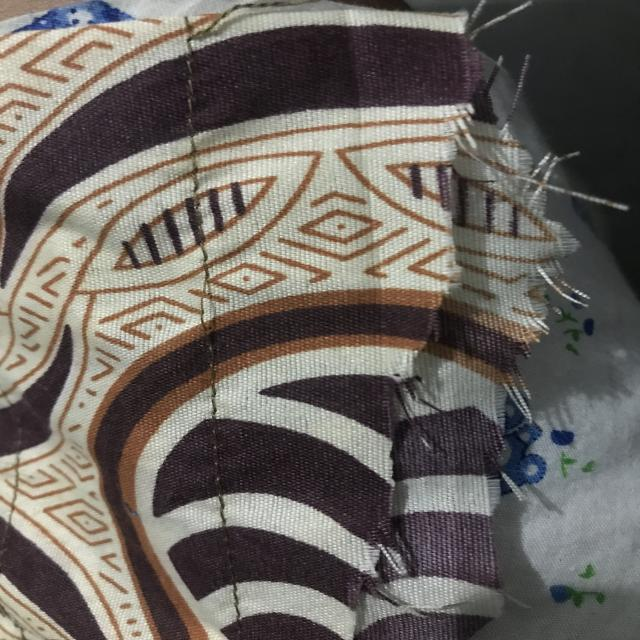skip: (176, 256, 234, 351)
